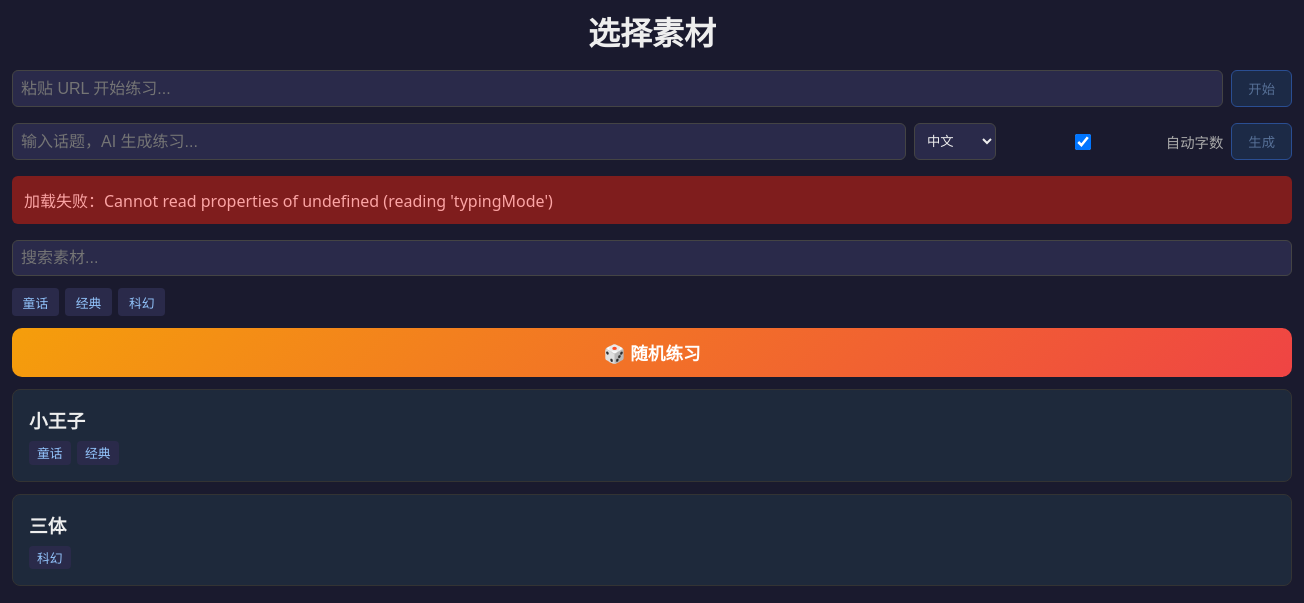
Test: PlayPage — topic generate › shows error on generation failure
Type "测试" into the field named "topic" at [459, 142], box x1=12 y1=123 x2=906 y2=160
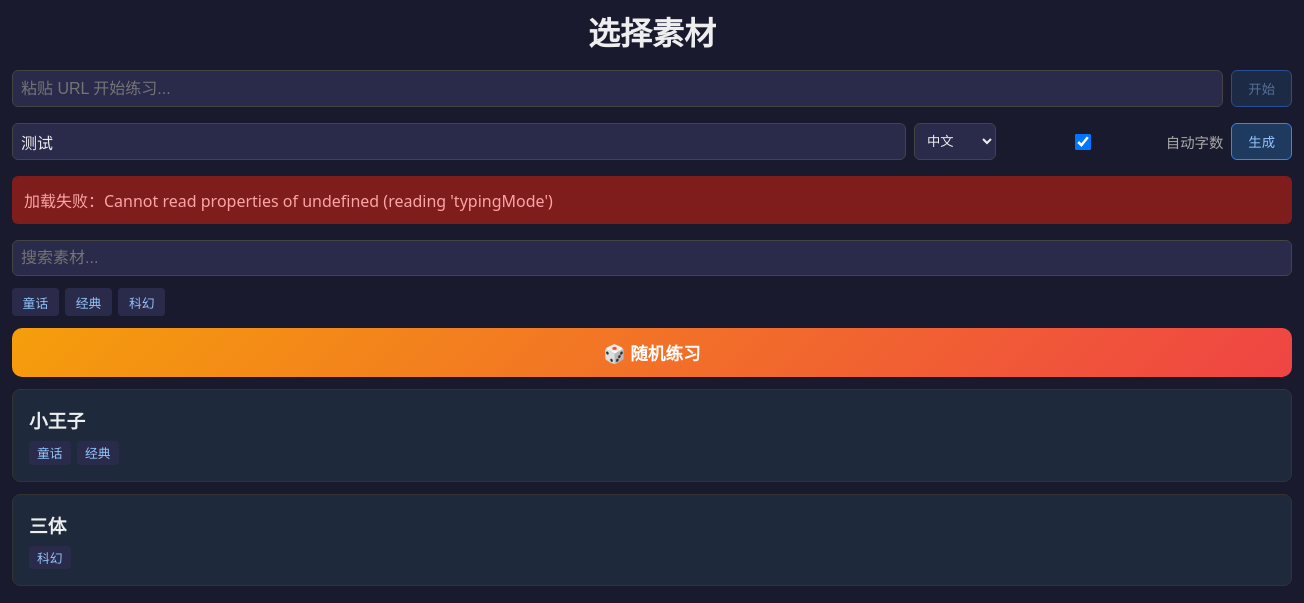
Submit the form with class "topic-form", box x1=12 y1=123 x2=1292 y2=160
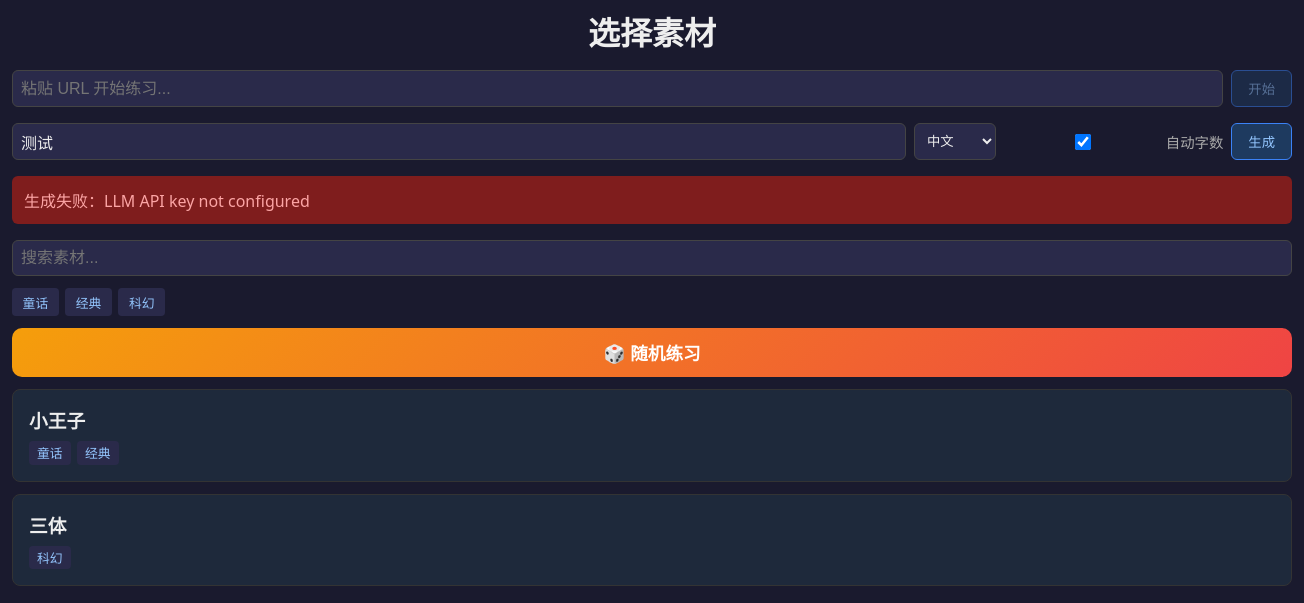
Expected: the text with class "error-banner" shows "生成失败", x1=24 y1=190 x2=310 y2=212
